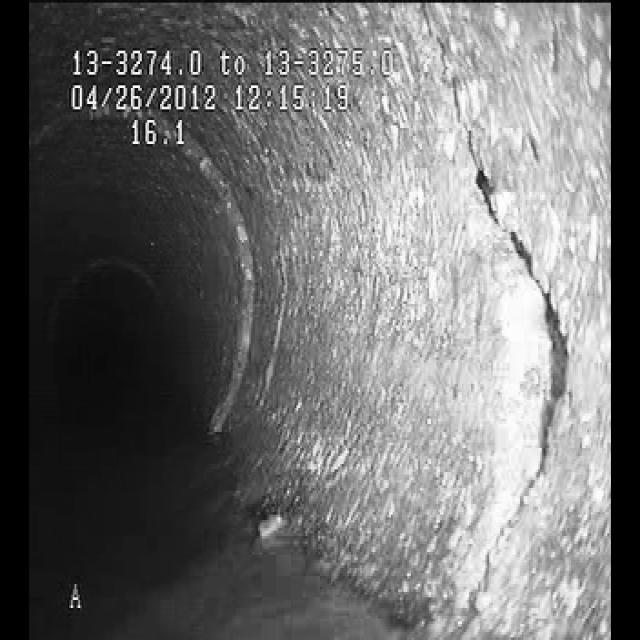Fracture: (436, 65, 596, 608)
